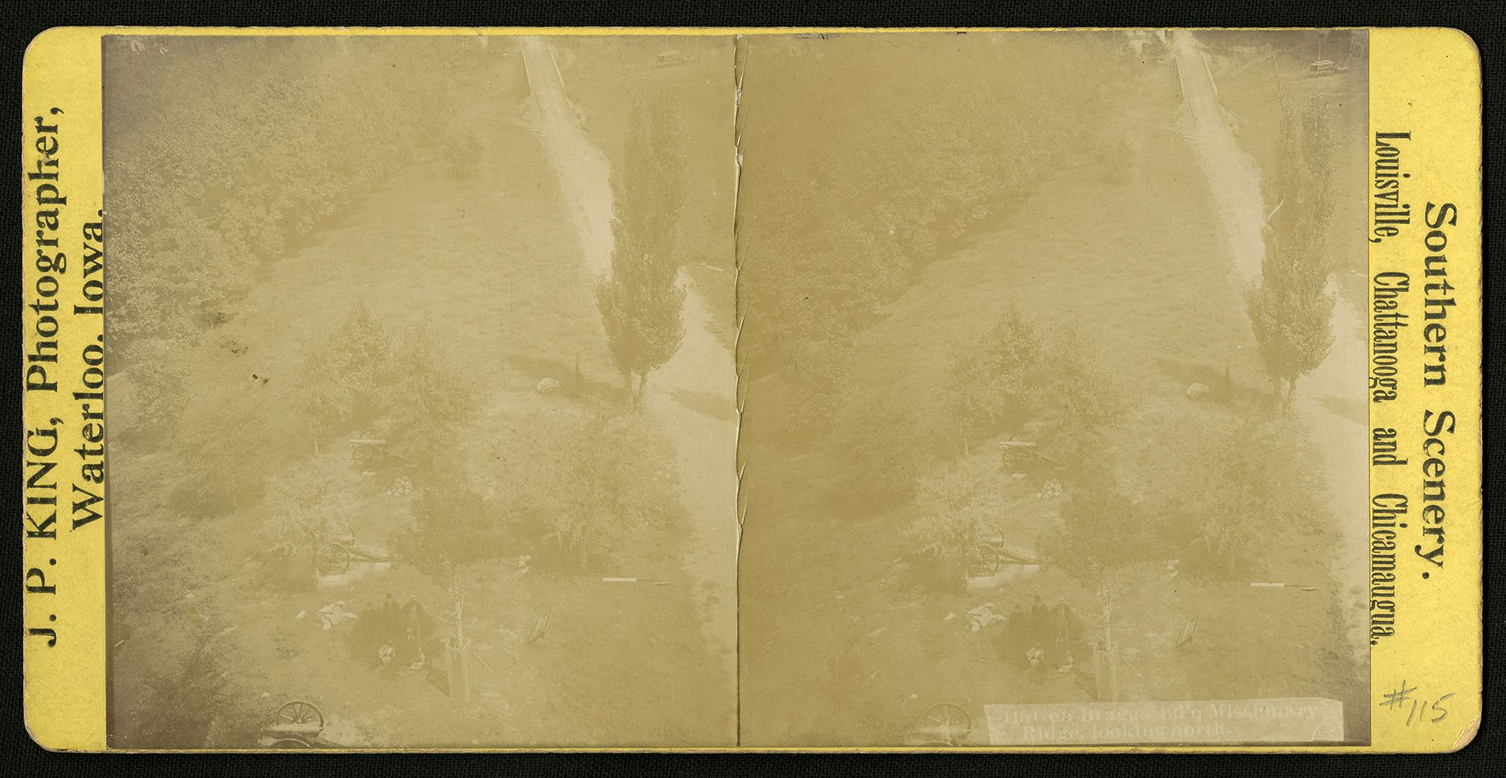half_image: (103, 35, 739, 748), (741, 31, 1370, 745)
